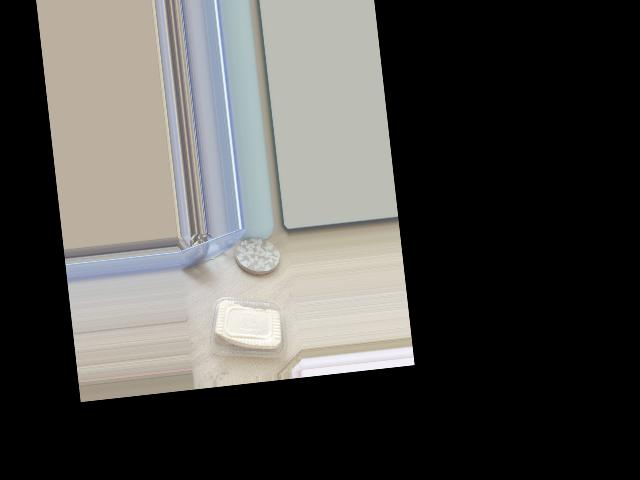cheese: (211, 285, 300, 380)
